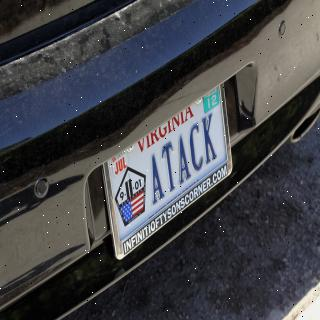license: (103, 82, 234, 262)
